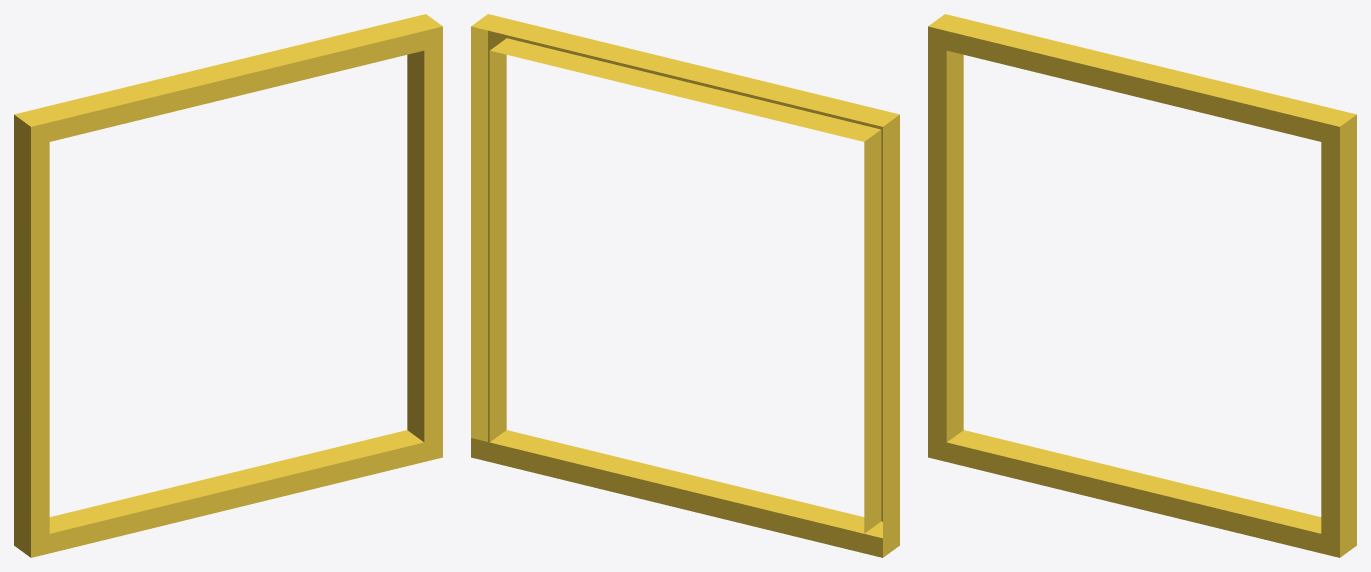
File: BoundingBox_planar_env.dae
3 views of the same model, side by side, from view 1: azimuth 30°, elevation 25°; view 2: azimuth 150°, elevation 25°; view 3: azimuth 330°, elevation 25° (orthographic).
Parts seen in each view (by area): view 1: instance_0; view 2: instance_0; view 3: instance_0.
Boxes of the visible parts, bbox=[...] form: instance_0: bbox=[14, 14, 442, 557]; instance_0: bbox=[471, 14, 899, 557]; instance_0: bbox=[928, 14, 1356, 557].
Size of the model in its own units: 110 by 7.87 by 110.
